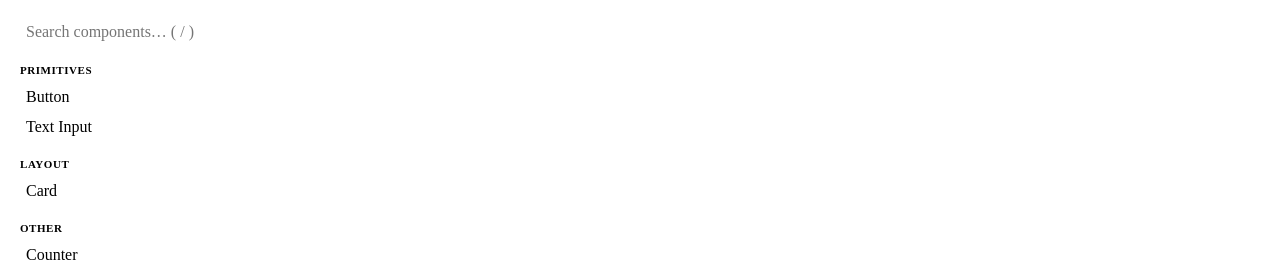
Sidebar › filters while typing and hides empty groups
In the search field labelled "Search components": (636,32) [16,16,1256,48], type "text"
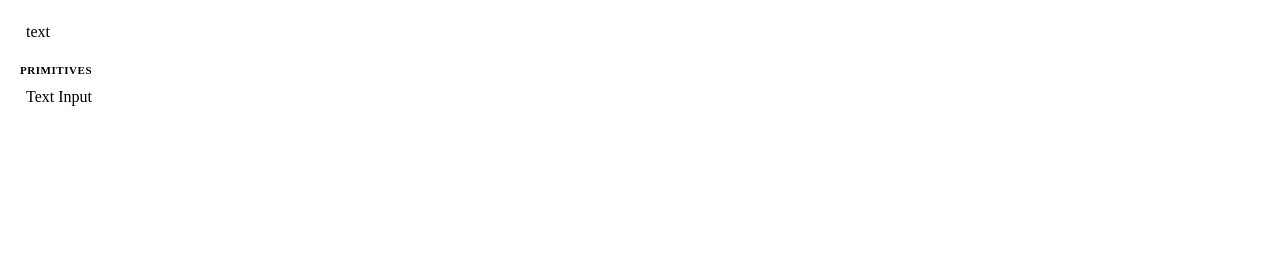
Expected: the buttons read "Text Input", in this order, [16,82,1256,112]
Expected: the headings read "Primitives", in this order, [20,64,92,76]
